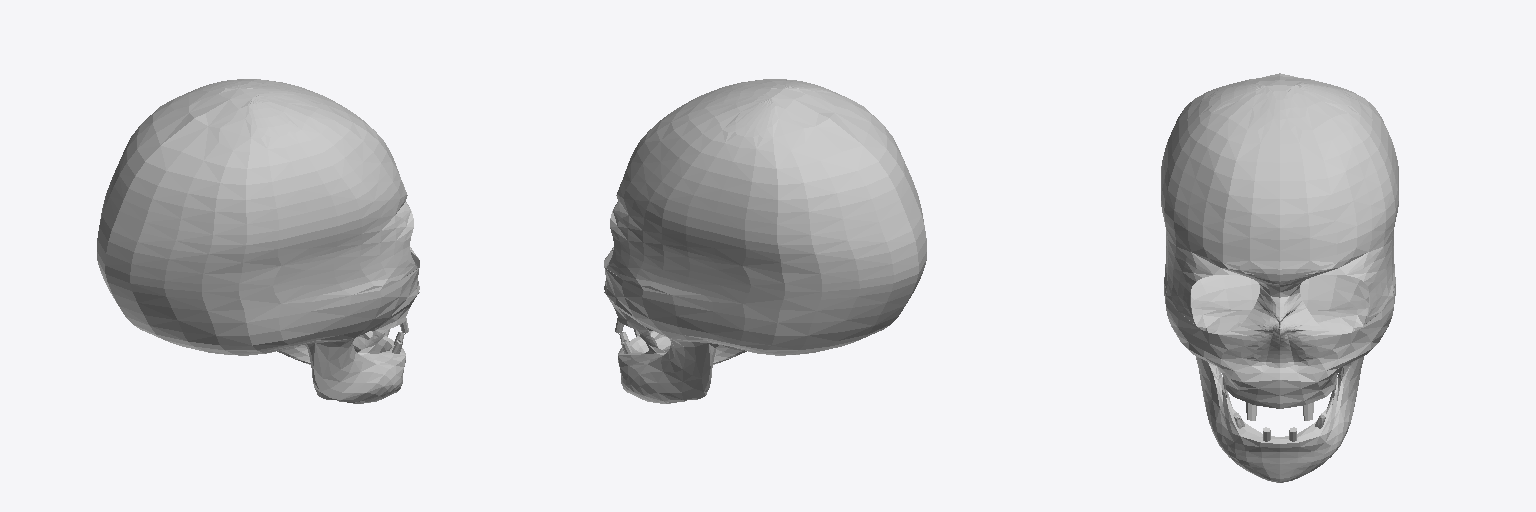
File: skull2.obj
3 renders of one model, left to right at view 1: azimuth 30°, elevation 25°; view 2: azimuth 150°, elevation 25°; view 3: azimuth 270°, elevation 25°, orthographic.
Visible parts, largest first — view 1: Cube_Cube.001; view 2: Cube_Cube.001; view 3: Cube_Cube.001.
Boxes of the visible parts, x1,y1,x2,y2 form: Cube_Cube.001: [97, 79, 419, 403]; Cube_Cube.001: [604, 79, 926, 403]; Cube_Cube.001: [1161, 73, 1398, 482].
Bounding box in the file's own units: 4.93 × 5.17 × 3.37.